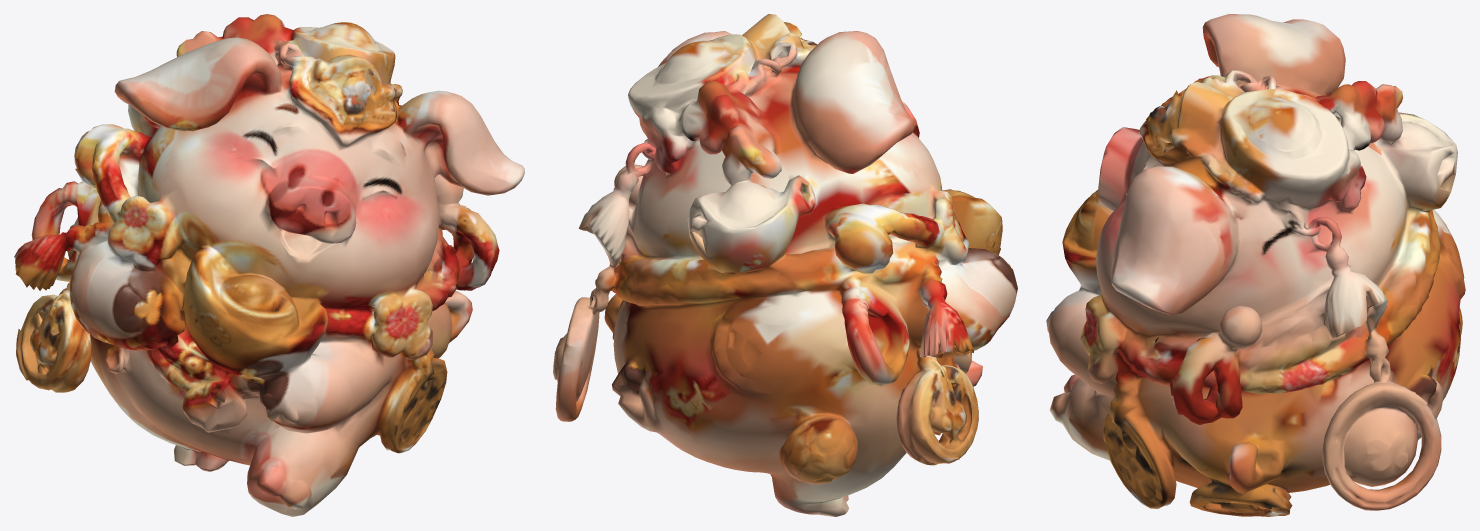
File: pig_roblox.glb
3 views of the same model, side by side, from view 1: azimuth 30°, elevation 25°; view 2: azimuth 150°, elevation 25°; view 3: azimuth 270°, elevation 25° (orthographic). The views are drawn at different scales.
Parts seen in each view (by area): view 1: MoonPig_Part002, MoonPig_Eyes; view 2: MoonPig_Part002; view 3: MoonPig_Part002, MoonPig_Eyes.
Part boxes in pixels (left/top/right/bottom): MoonPig_Part002: left=14, top=14, right=524, bottom=516; MoonPig_Eyes: left=261, top=104, right=358, bottom=204; MoonPig_Part002: left=553, top=14, right=1017, bottom=516; MoonPig_Part002: left=1046, top=14, right=1465, bottom=516; MoonPig_Eyes: left=1103, top=97, right=1171, bottom=166.
Size of the model in its own units: 2.64 by 2.66 by 2.21.
Materials: 1 (1 with a texture image).
